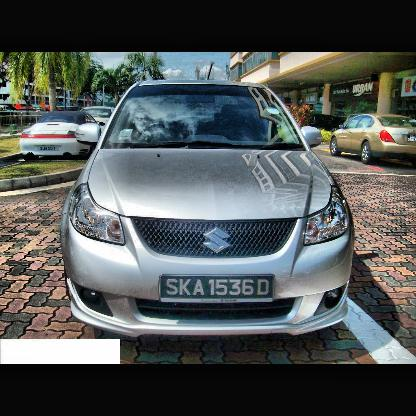Suzuki SX4 Sedan 2012: (58, 78, 358, 343)
